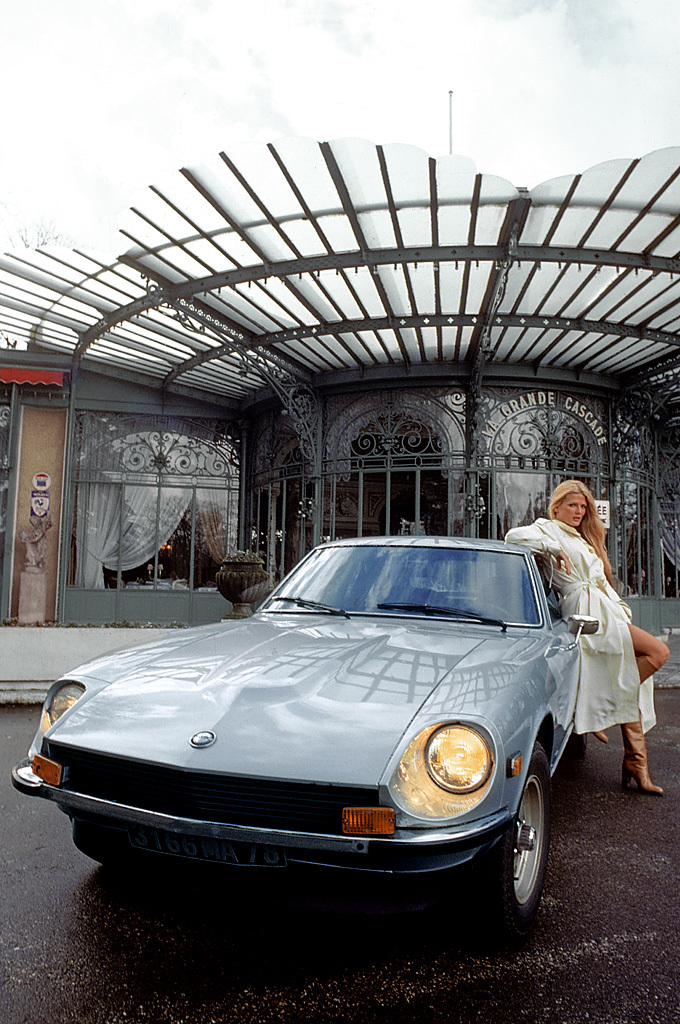Car: (11, 533, 598, 935)
